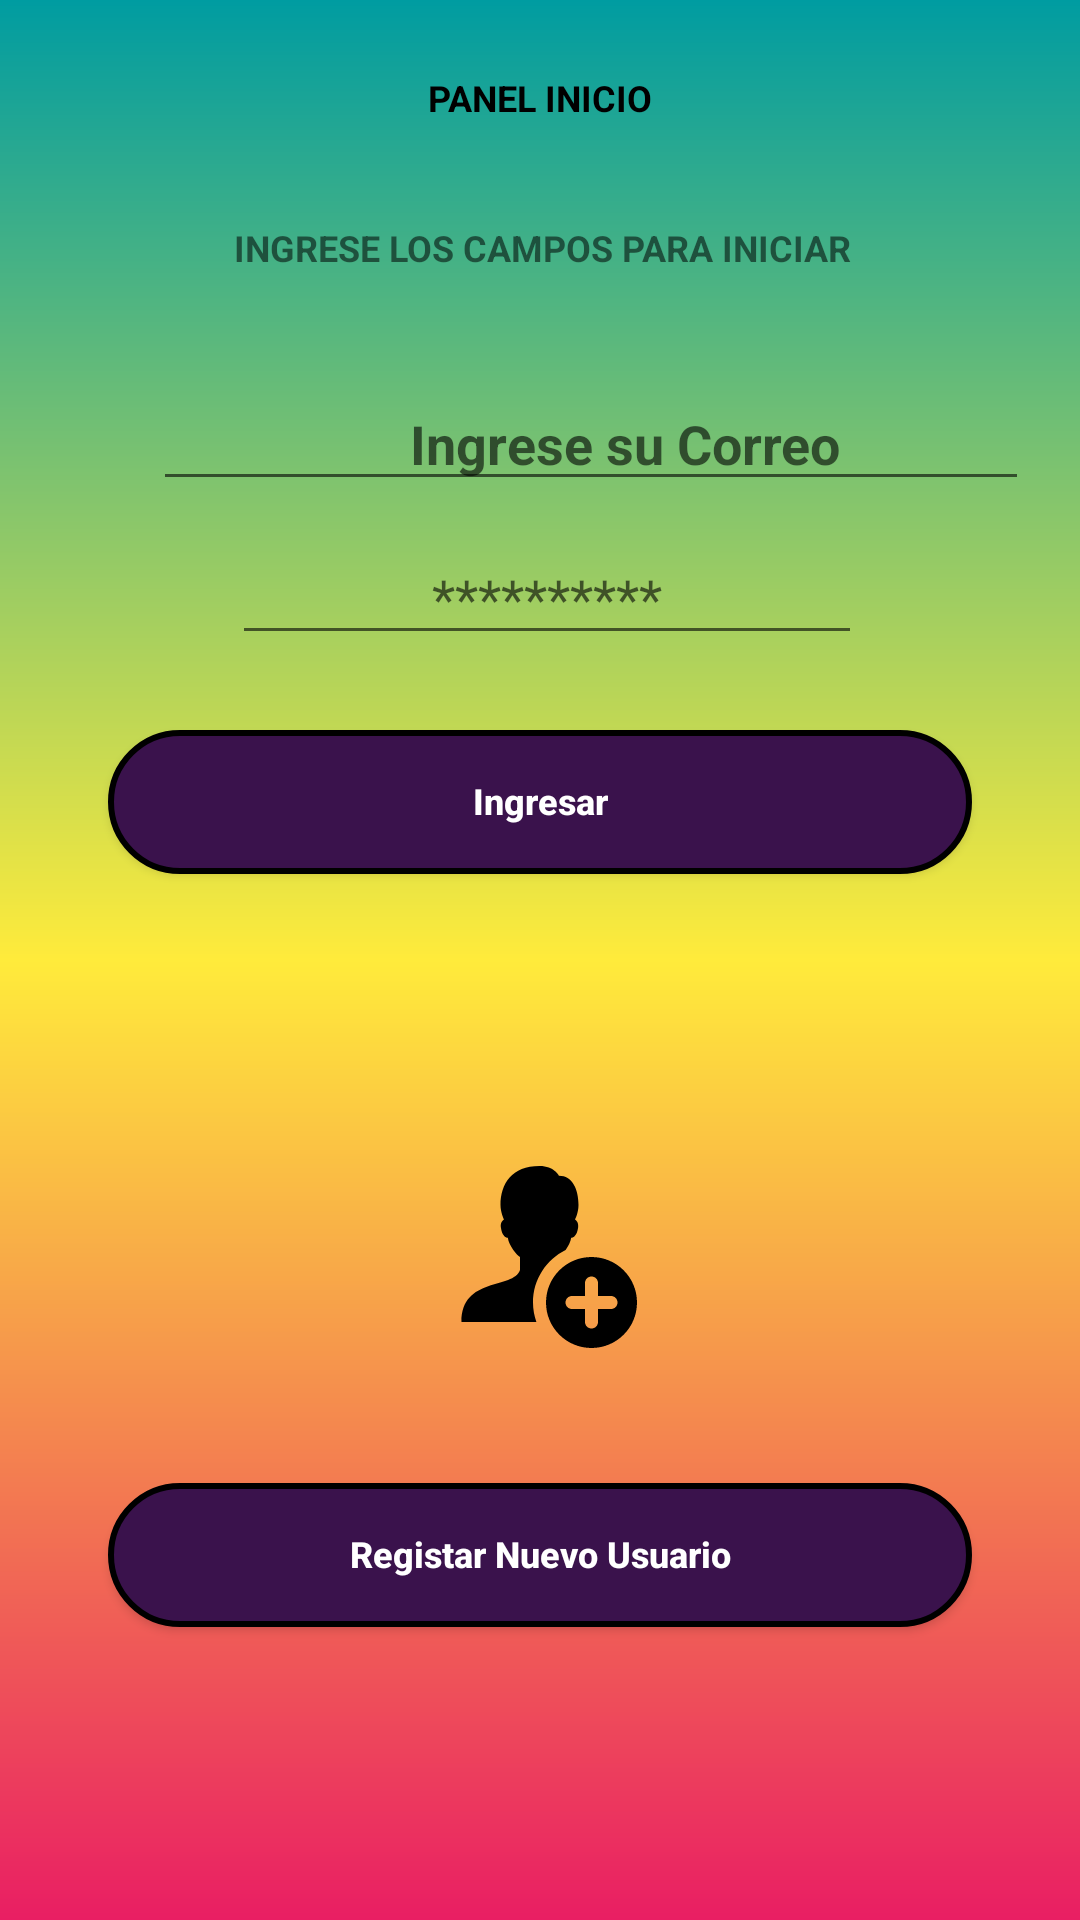

Icon click points for this 1080x1920 phone screenshot, format (x,y):
add us: (539,1250)
